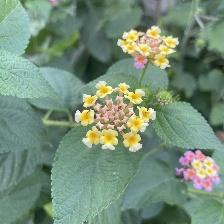common lanthana: (75, 79, 158, 157)
